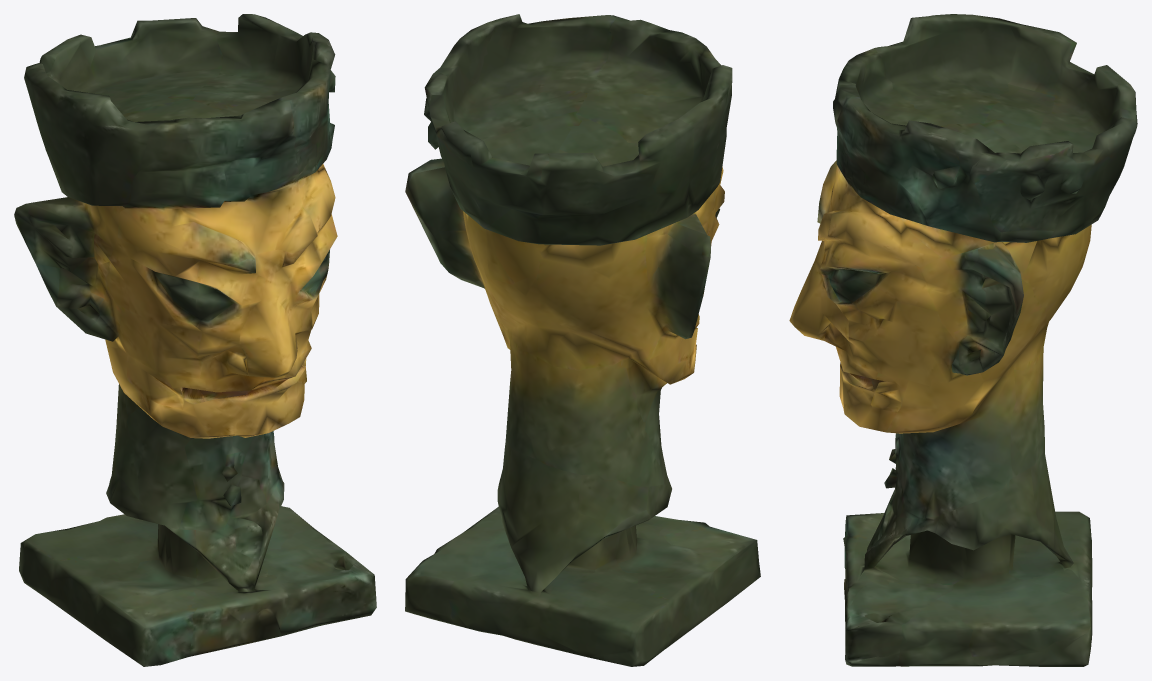
The model's file is s_head.glb.
The picture shows the model from 3 angles, left to right: view 1: azimuth 30°, elevation 25°; view 2: azimuth 150°, elevation 25°; view 3: azimuth 270°, elevation 25°; orthographic projection.
Visible parts, largest first — view 1: tripo_node_22cd4876-3bf0-48c0-a48e-5ec145d95ea1; view 2: tripo_node_22cd4876-3bf0-48c0-a48e-5ec145d95ea1; view 3: tripo_node_22cd4876-3bf0-48c0-a48e-5ec145d95ea1.
Part boxes in pixels (x1,y1,x2,y2): tripo_node_22cd4876-3bf0-48c0-a48e-5ec145d95ea1: [14, 14, 376, 666]; tripo_node_22cd4876-3bf0-48c0-a48e-5ec145d95ea1: [405, 14, 760, 666]; tripo_node_22cd4876-3bf0-48c0-a48e-5ec145d95ea1: [789, 14, 1137, 666].
Size of the model in its own units: 0.5885 by 0.9979 by 0.5854.
Materials: 1 (1 with a texture image).
